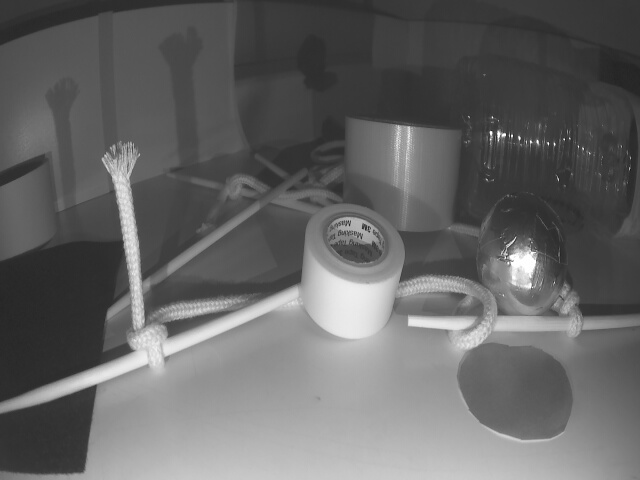Live: (478, 189, 568, 319)
